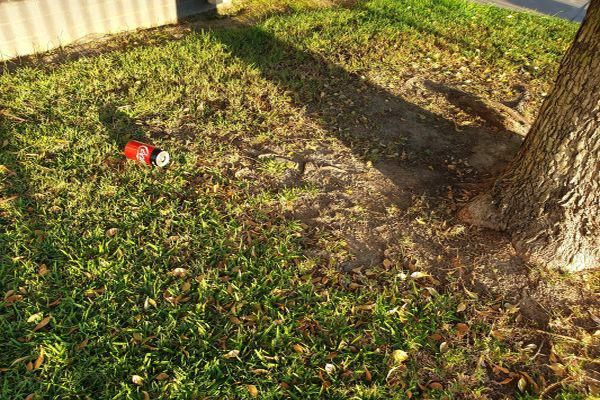Plastic Bottle: (124, 140, 170, 167)
